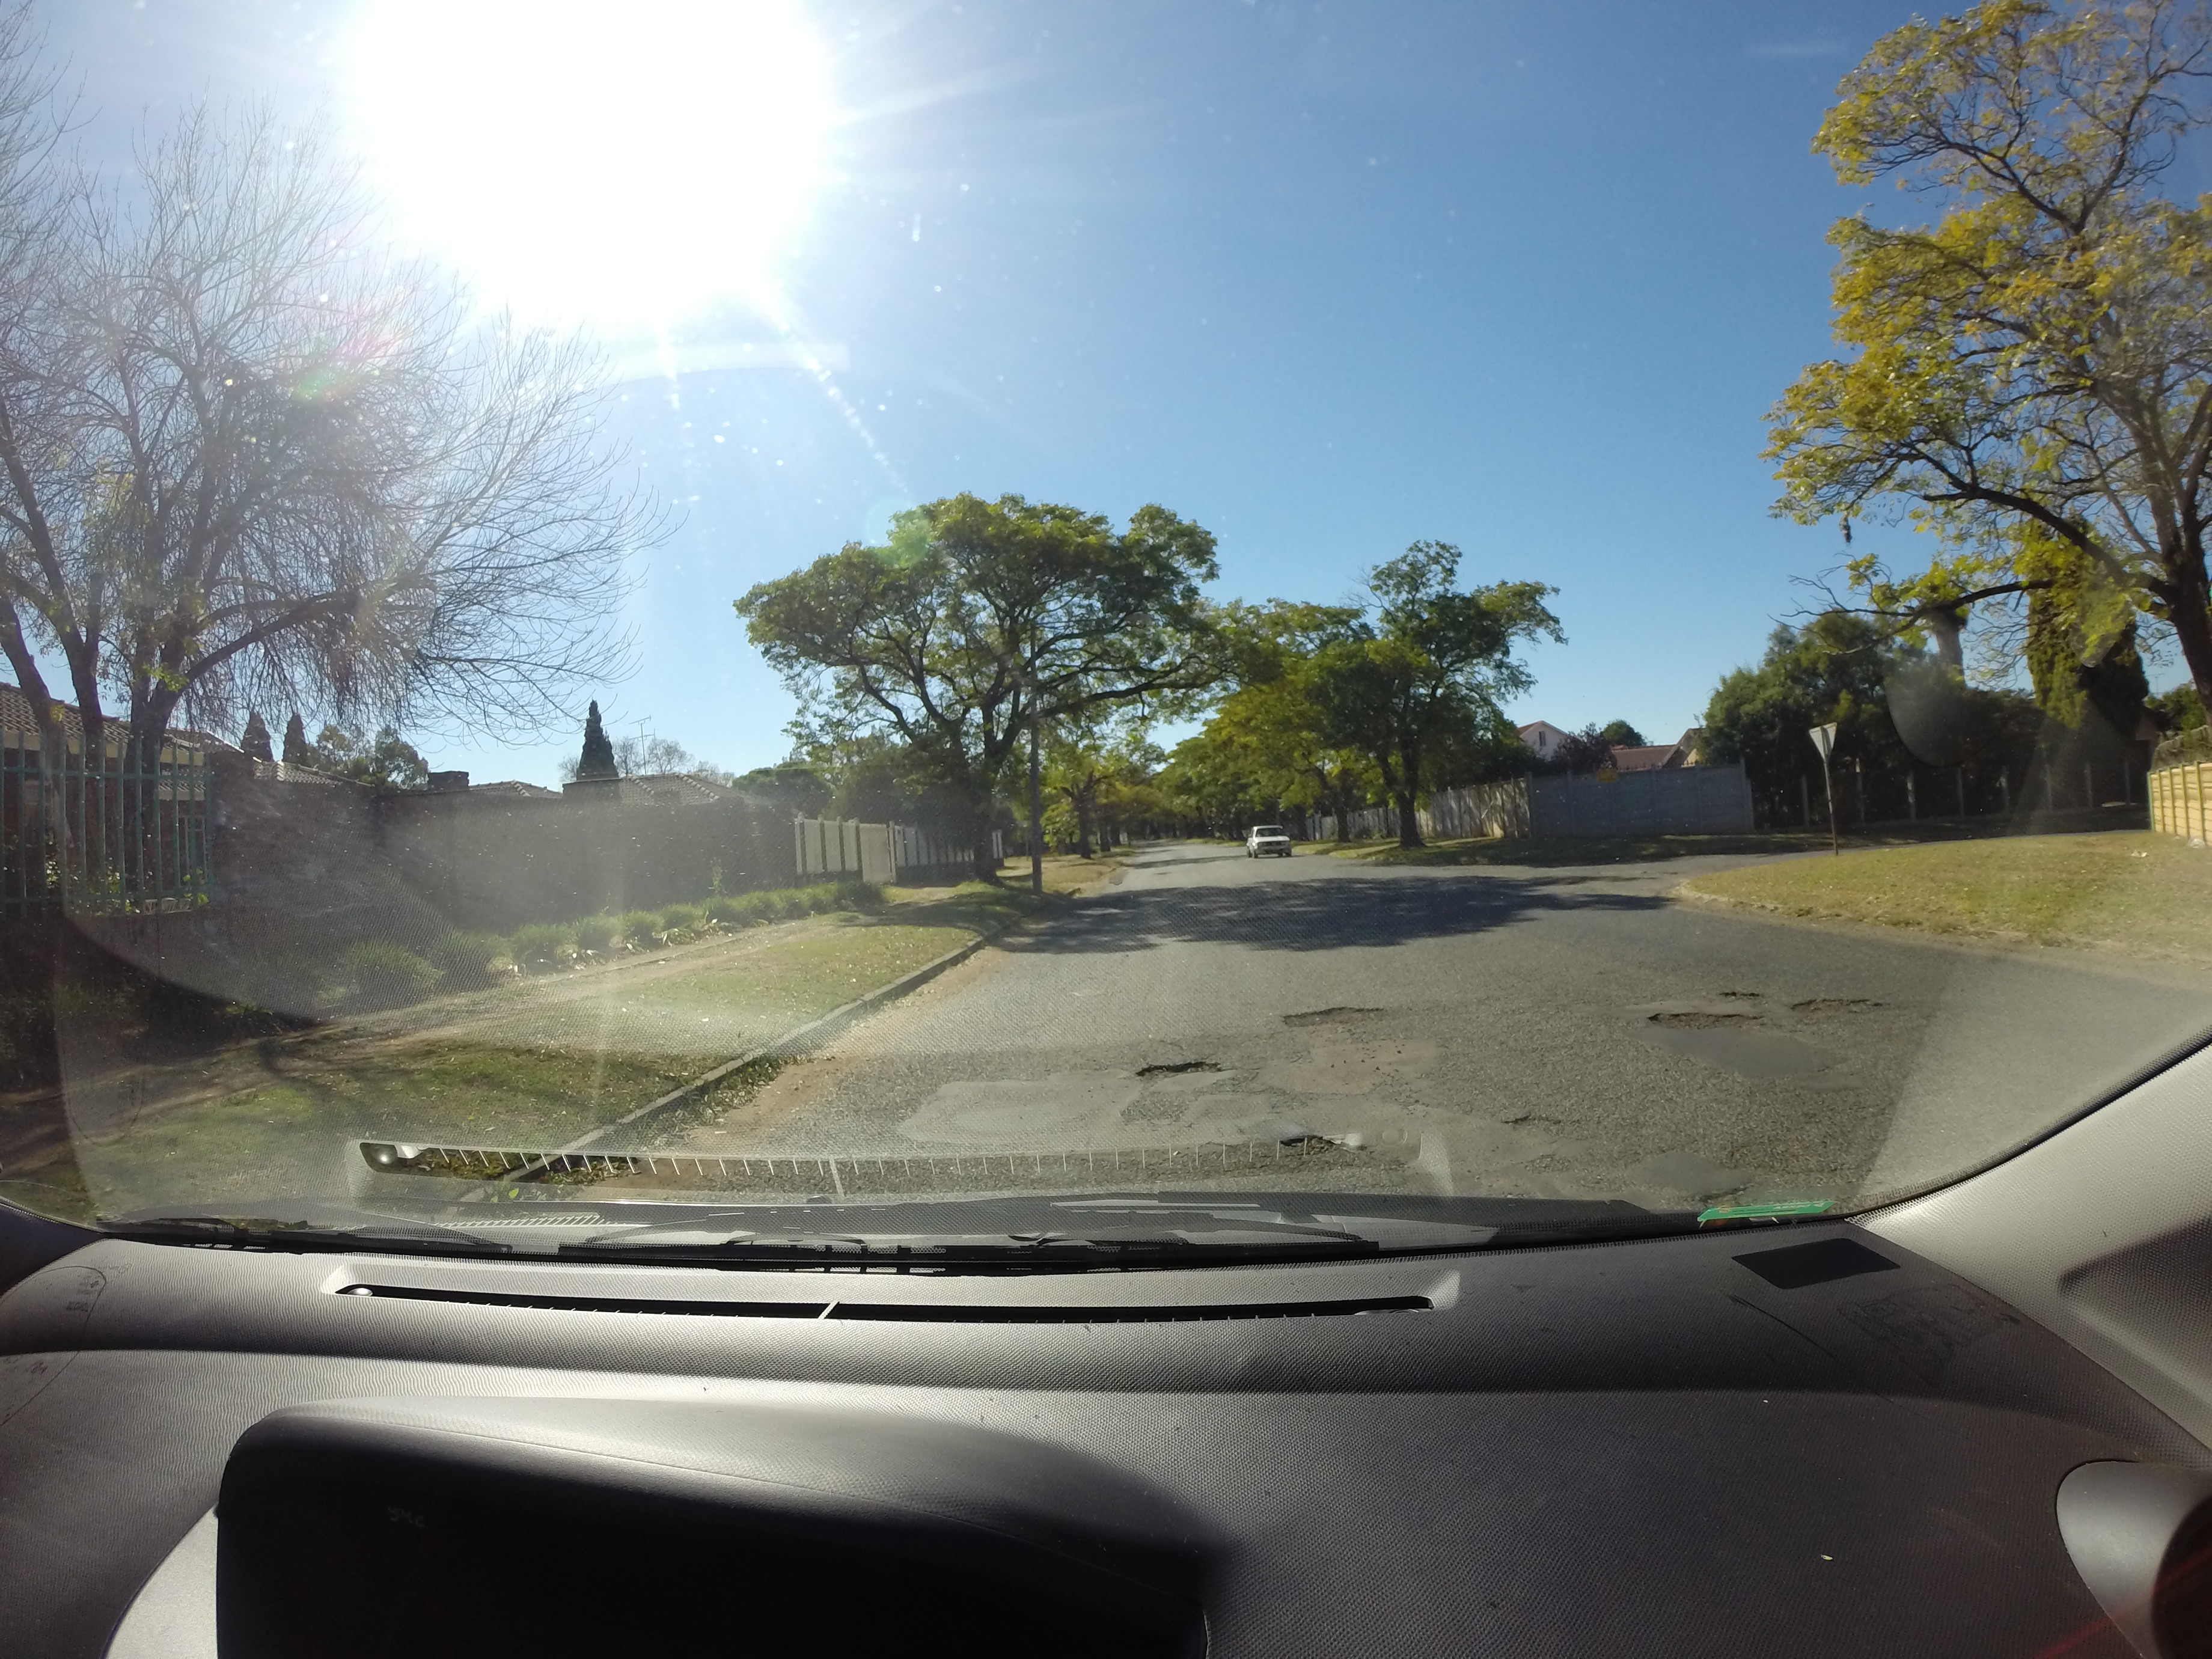pothole: (1653, 983, 1831, 1054), (1259, 1127, 1402, 1209), (1122, 1040, 1258, 1103), (1291, 992, 1400, 1042)
